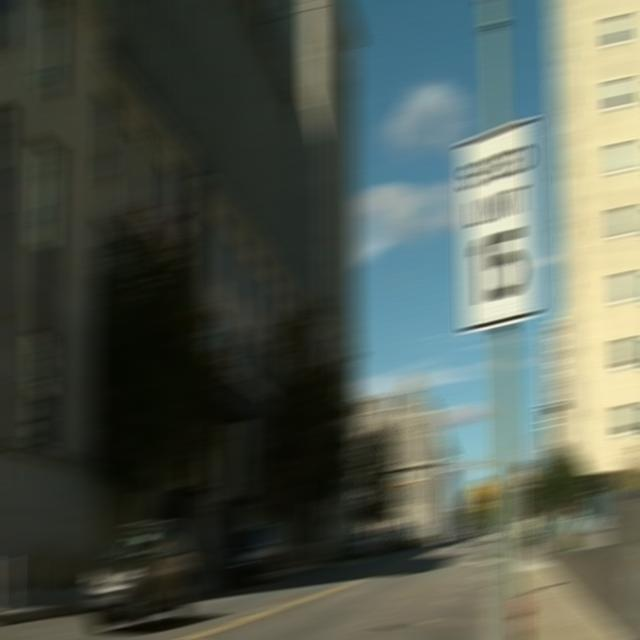speedLimit15: (462, 140, 534, 311)
